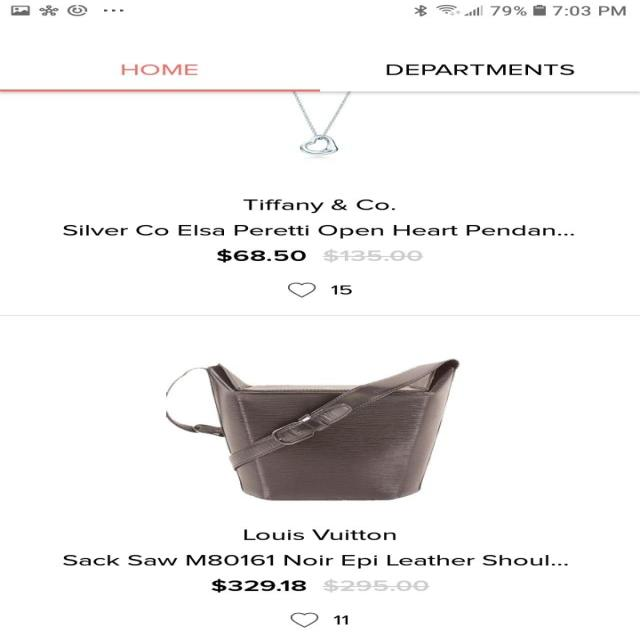Icon: (290, 611, 320, 627), (286, 282, 316, 297)
Image: (164, 355, 458, 500), (292, 91, 352, 155)
Text: (62, 554, 568, 569), (62, 224, 574, 238), (210, 578, 428, 592), (216, 248, 423, 262), (384, 64, 574, 76), (242, 199, 394, 213), (244, 529, 396, 540), (120, 64, 198, 76), (330, 285, 352, 295), (332, 614, 348, 624)
